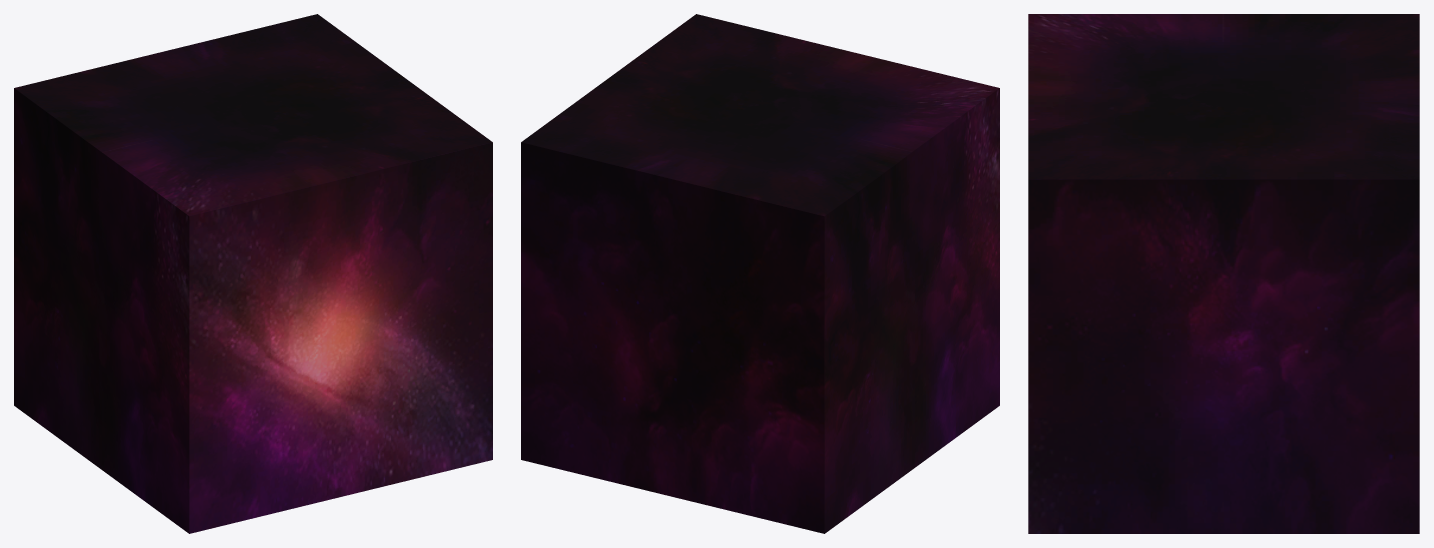
File: sky.fbx
3 renders of one model, left to right at view 1: azimuth 30°, elevation 25°; view 2: azimuth 150°, elevation 25°; view 3: azimuth 270°, elevation 25°, orthographic. The views are drawn at different scales.
Visible parts, largest first — view 1: cavernsoftimesky; view 2: cavernsoftimesky; view 3: cavernsoftimesky.
Boxes of the visible parts, x1=… form: cavernsoftimesky: x1=14, y1=14, x2=492, y2=533; cavernsoftimesky: x1=521, y1=14, x2=999, y2=533; cavernsoftimesky: x1=1028, y1=14, x2=1419, y2=533.
Size of the model in its own units: 9393 by 9393 by 9393.
Materials: 16 (16 with a texture image).
